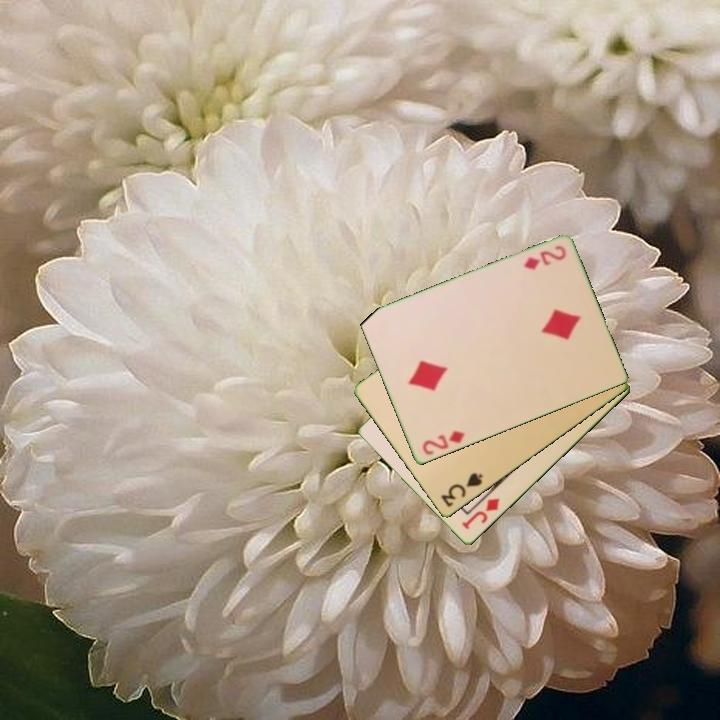2d: (520, 242, 569, 273), (419, 427, 467, 458)
3s: (437, 469, 486, 511)
Jd: (458, 495, 503, 533)
